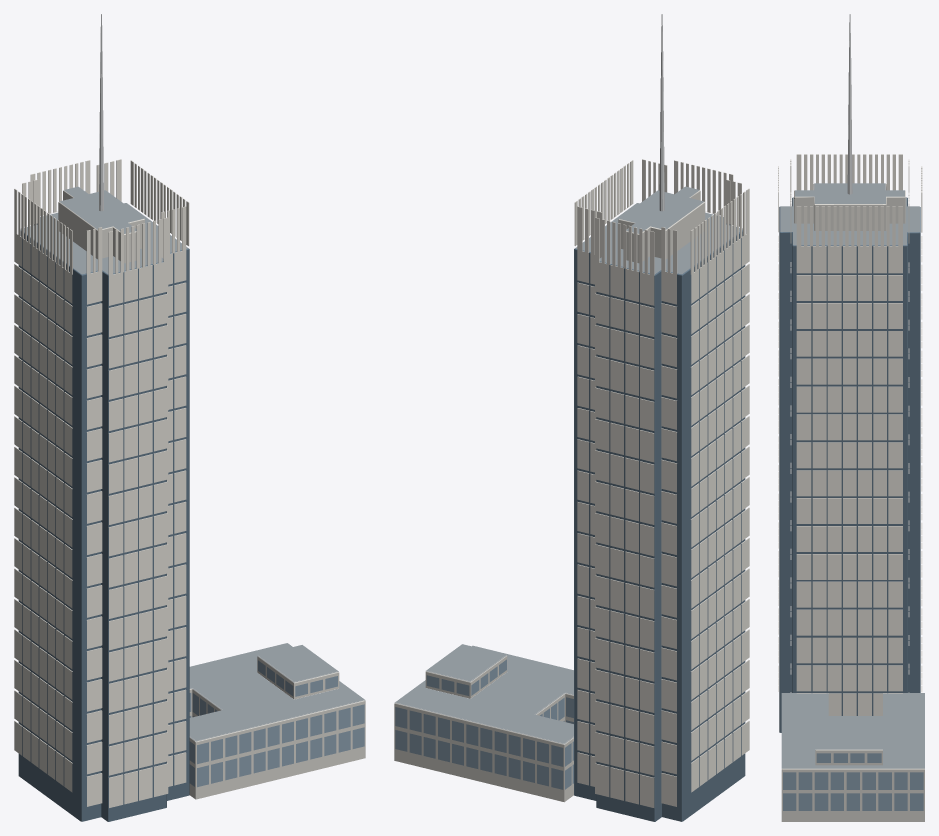
File: nyc-new-york-times-building.glb
The picture shows the model from 3 angles, left to right: view 1: azimuth 30°, elevation 25°; view 2: azimuth 150°, elevation 25°; view 3: azimuth 270°, elevation 25°; orthographic projection. The views are drawn at different scales.
Visible parts, largest first — view 1: The New York Times Building; view 2: The New York Times Building; view 3: The New York Times Building.
Boxes of the visible parts, left/top/right/bottom form: The New York Times Building: left=14, top=14, right=365, bottom=821; The New York Times Building: left=394, top=14, right=749, bottom=821; The New York Times Building: left=778, top=14, right=924, bottom=821.
Bounding box in the file's own units: 123 × 319 × 60.15.
